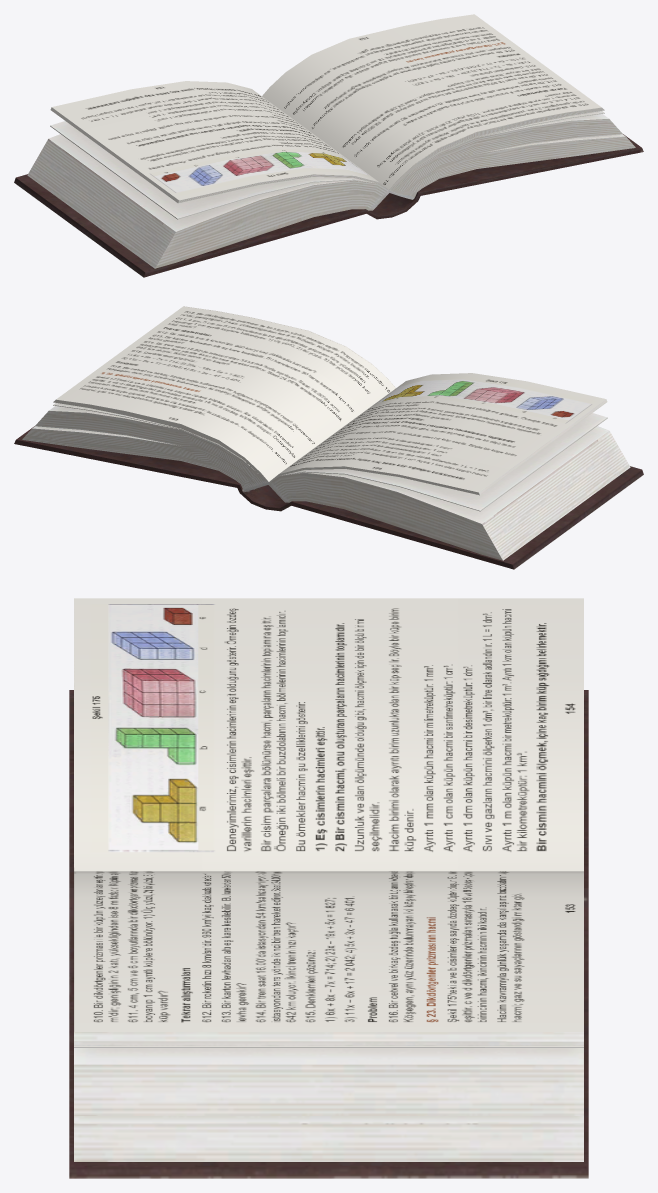
The model's file is book-tr.glb.
3 renders of one model, top to bottom at view 1: azimuth 30°, elevation 25°; view 2: azimuth 150°, elevation 25°; view 3: azimuth 270°, elevation 25°, orthographic. The views are drawn at different scales.
Parts seen in each view (by area): view 1: Textbook; view 2: Textbook; view 3: Textbook.
Part boxes in pixels (left/top/right/bottom): Textbook: left=14, top=14, right=643, bottom=277; Textbook: left=14, top=306, right=643, bottom=569; Textbook: left=69, top=598, right=588, bottom=1178.
Size of the model in its own units: 0.00564 by 0.000732 by 0.00254.
Materials: 1 (1 with a texture image).
